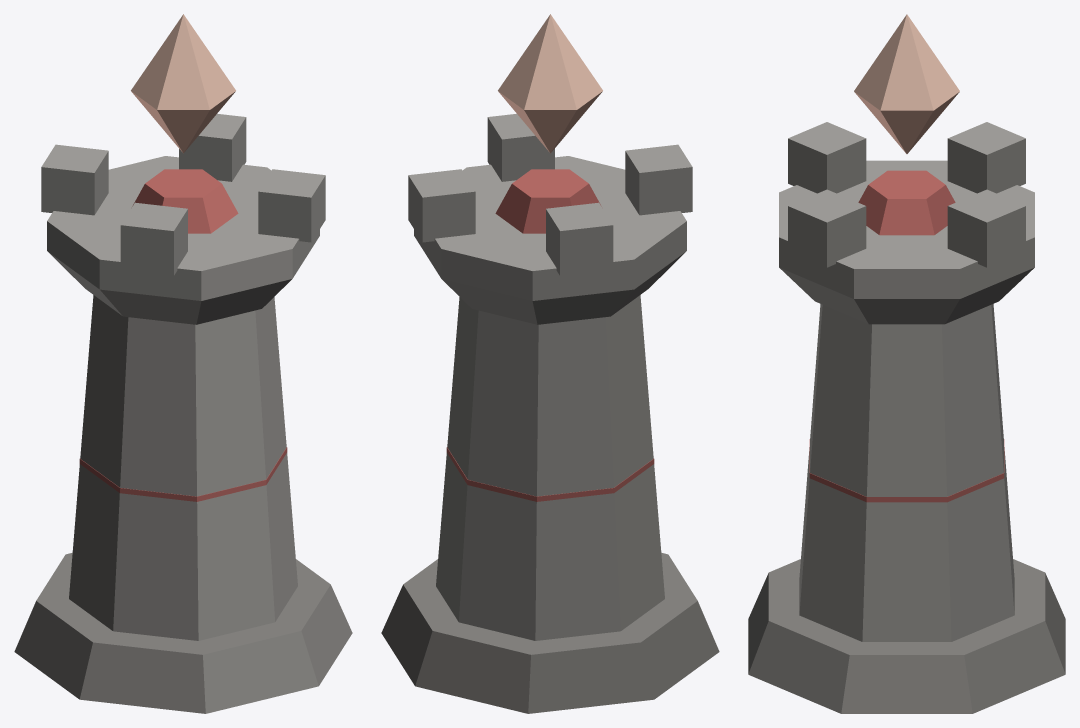
The model's file is tower_red.glb.
3 renders of one model, left to right at view 1: azimuth 30°, elevation 25°; view 2: azimuth 150°, elevation 25°; view 3: azimuth 270°, elevation 25°, orthographic.
Size of the model in its own units: 2.86 by 6.3 by 2.86.
